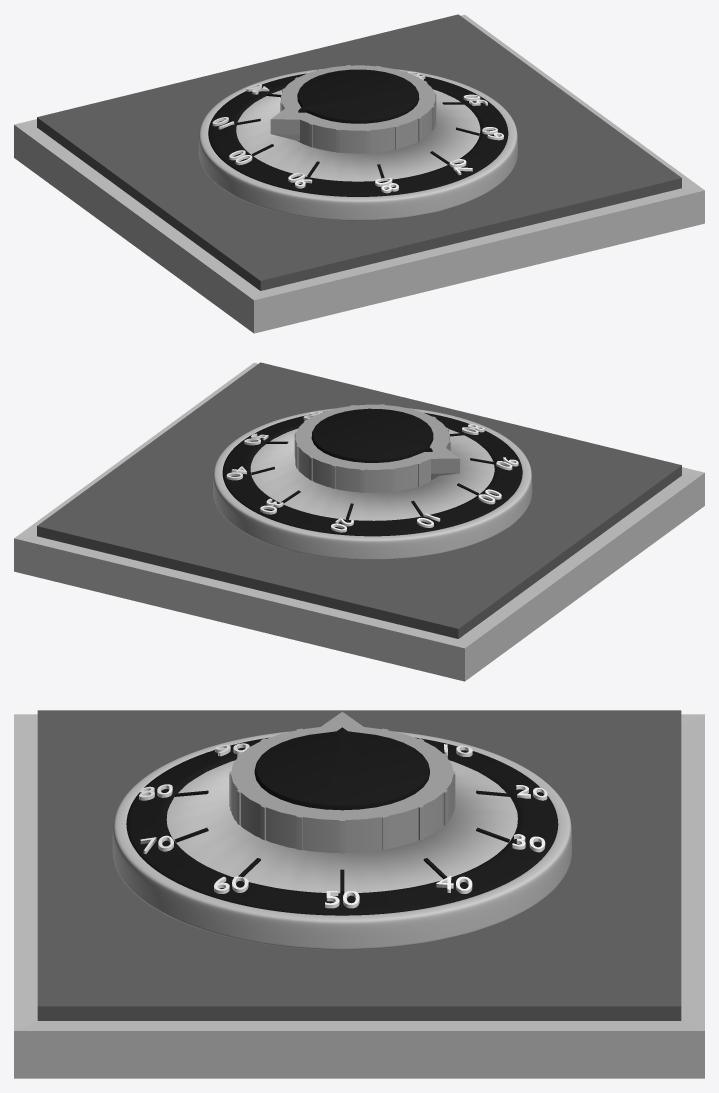
Rendered from coffre fortV1.fbx.
3 views of the same model, one above another, from view 1: azimuth 30°, elevation 25°; view 2: azimuth 150°, elevation 25°; view 3: azimuth 270°, elevation 25° (orthographic). The views are drawn at different scales.
Parts seen in each view (by area): view 1: porte_coffre, support_conteur, compteur_tourner; view 2: porte_coffre, support_conteur, compteur_tourner; view 3: porte_coffre, support_conteur, compteur_tourner.
Boxes of the visible parts, x1,y1,x2,y2 form: porte_coffre: (37,14,681,290); support_conteur: (14,14,704,333); compteur_tourner: (270,65,436,153); porte_coffre: (37,362,681,638); support_conteur: (14,362,704,681); compteur_tourner: (294,404,459,492); porte_coffre: (37,710,681,1020); support_conteur: (14,714,704,1078); compteur_tourner: (229,711,455,853).
Size of the model in its own units: 643 by 140 by 593.
Materials: 1 (1 with a texture image).
